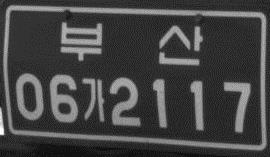0: (15, 71, 45, 121)
1: (187, 77, 207, 133), (150, 76, 169, 130)
2: (108, 74, 142, 128)
6: (48, 71, 79, 123)
7: (221, 79, 253, 135)
가: (81, 75, 105, 123)
부산_D: (59, 18, 204, 67)
